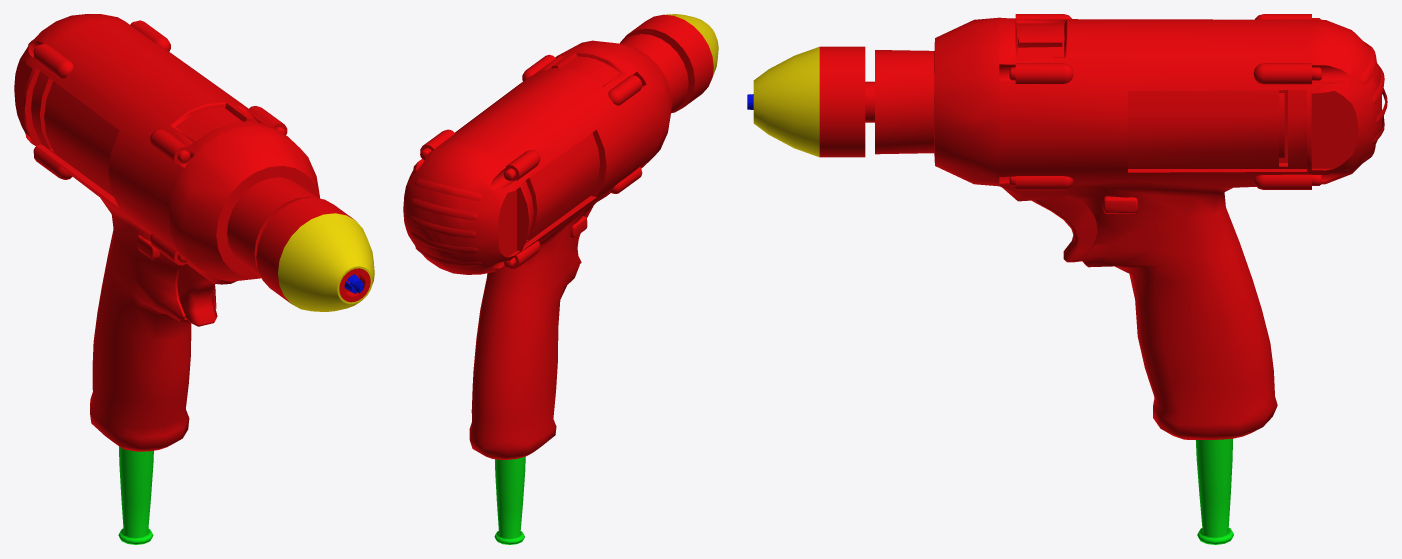
Rendered from ElectricDrill.fbx.
The picture shows the model from 3 angles, left to right: view 1: azimuth 30°, elevation 25°; view 2: azimuth 150°, elevation 25°; view 3: azimuth 270°, elevation 25°; orthographic projection. The views are drawn at different scales.
Visible parts, largest first — view 1: ElectricDrillBody, Chuck, ElectricDrillHead, Trigger; view 2: ElectricDrillBody, ElectricDrillHead, Chuck; view 3: ElectricDrillBody, ElectricDrillHead, Chuck, Trigger.
Part boxes in pixels (x1,y1,x2,y2): ElectricDrillBody: (14, 14, 320, 544); Chuck: (278, 213, 374, 311); ElectricDrillHead: (256, 197, 370, 303); Trigger: (177, 263, 217, 326); ElectricDrillBody: (403, 34, 688, 544); ElectricDrillHead: (620, 14, 713, 112); Chuck: (665, 14, 718, 76); ElectricDrillBody: (875, 14, 1387, 544); ElectricDrillHead: (819, 46, 874, 157); Chuck: (753, 47, 819, 157); Trigger: (1032, 198, 1097, 262).
Size of the model in its own units: 9.51 by 31.74 by 35.93.
